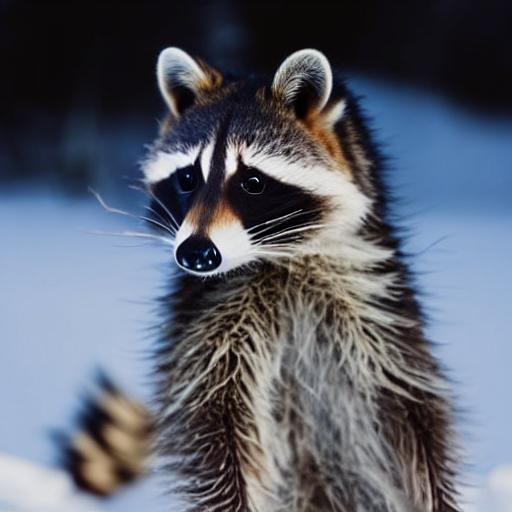raccoon: (123, 40, 491, 512)
